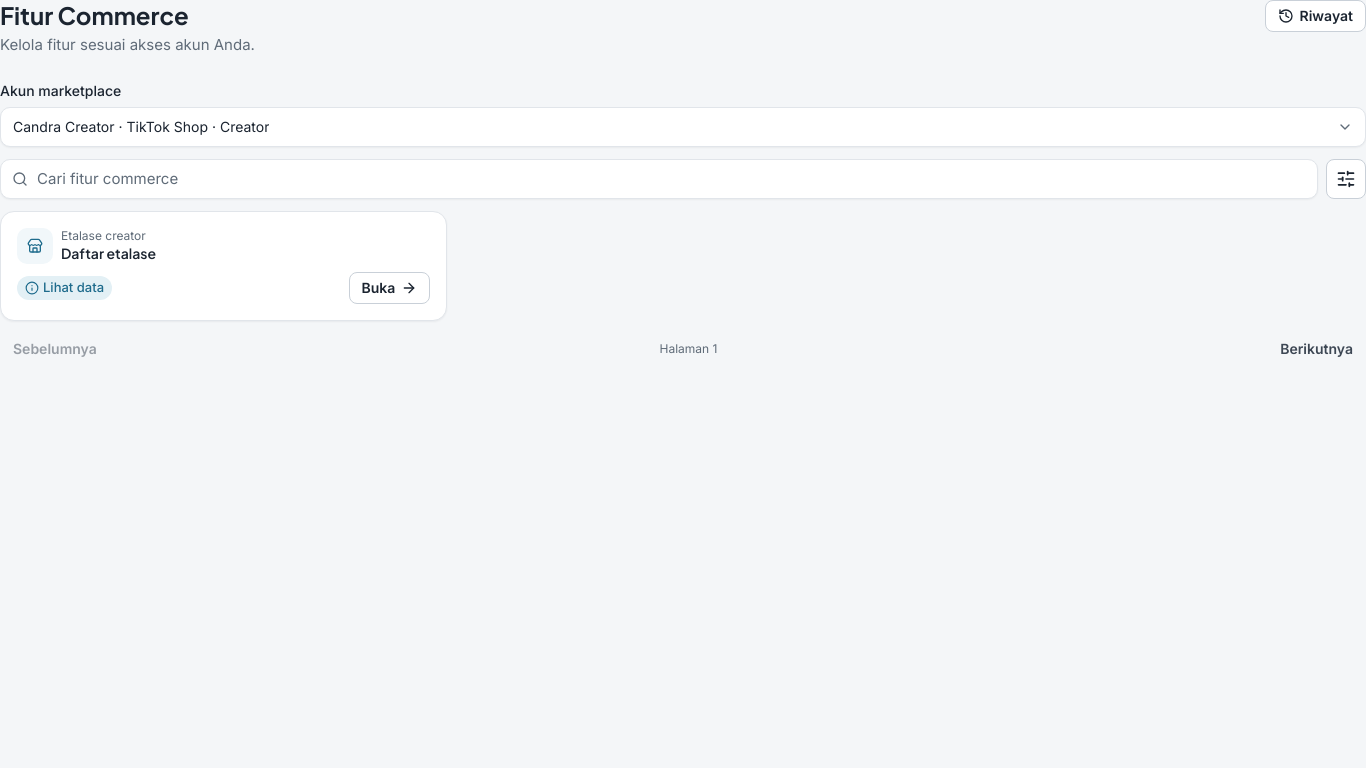
Test: commerce operations workspace › reads a verified operation with typed official fields and persists one idempotency key
Click the button with aria-label "Buka: Daftar etalase" at (389,288), box 348,272 -> 430,304
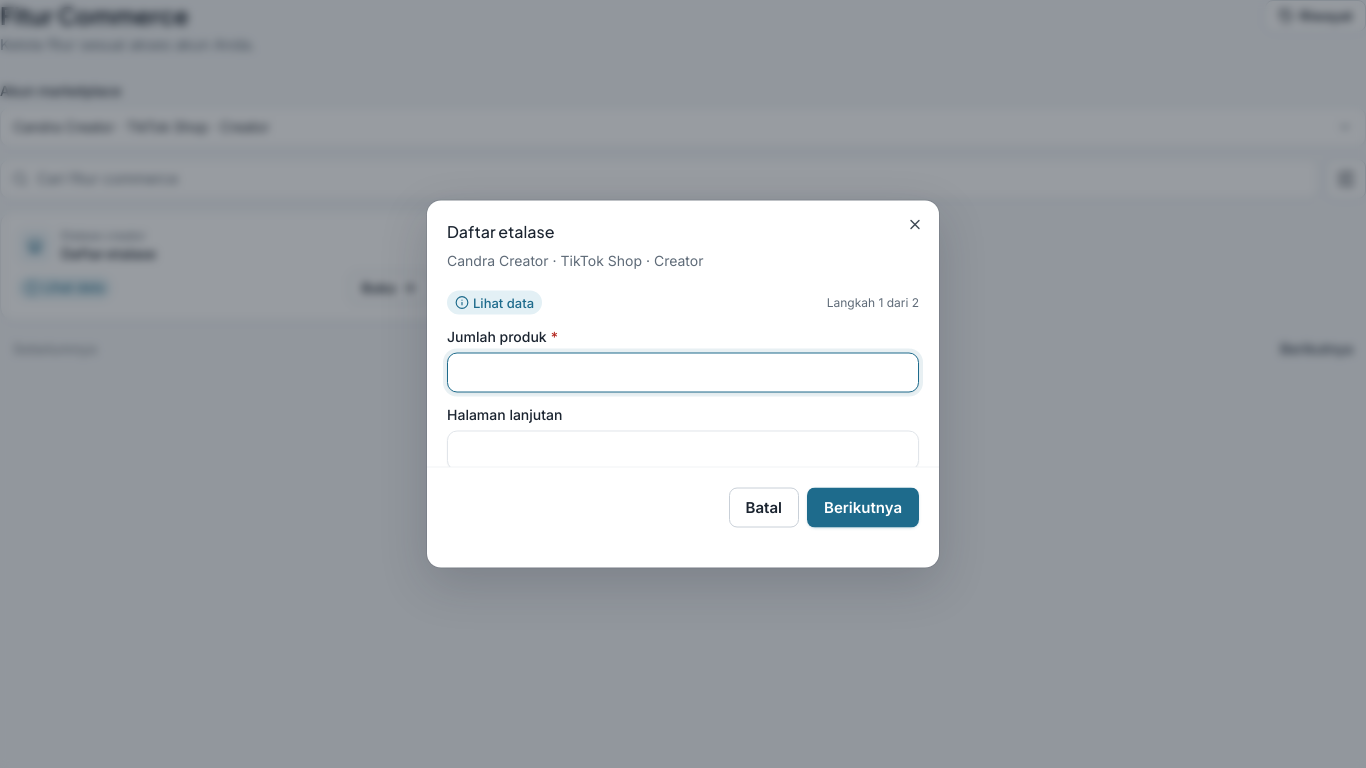
Type "20" into the field labelled "Jumlah produk*" at (683,372), box 447,352 -> 919,392
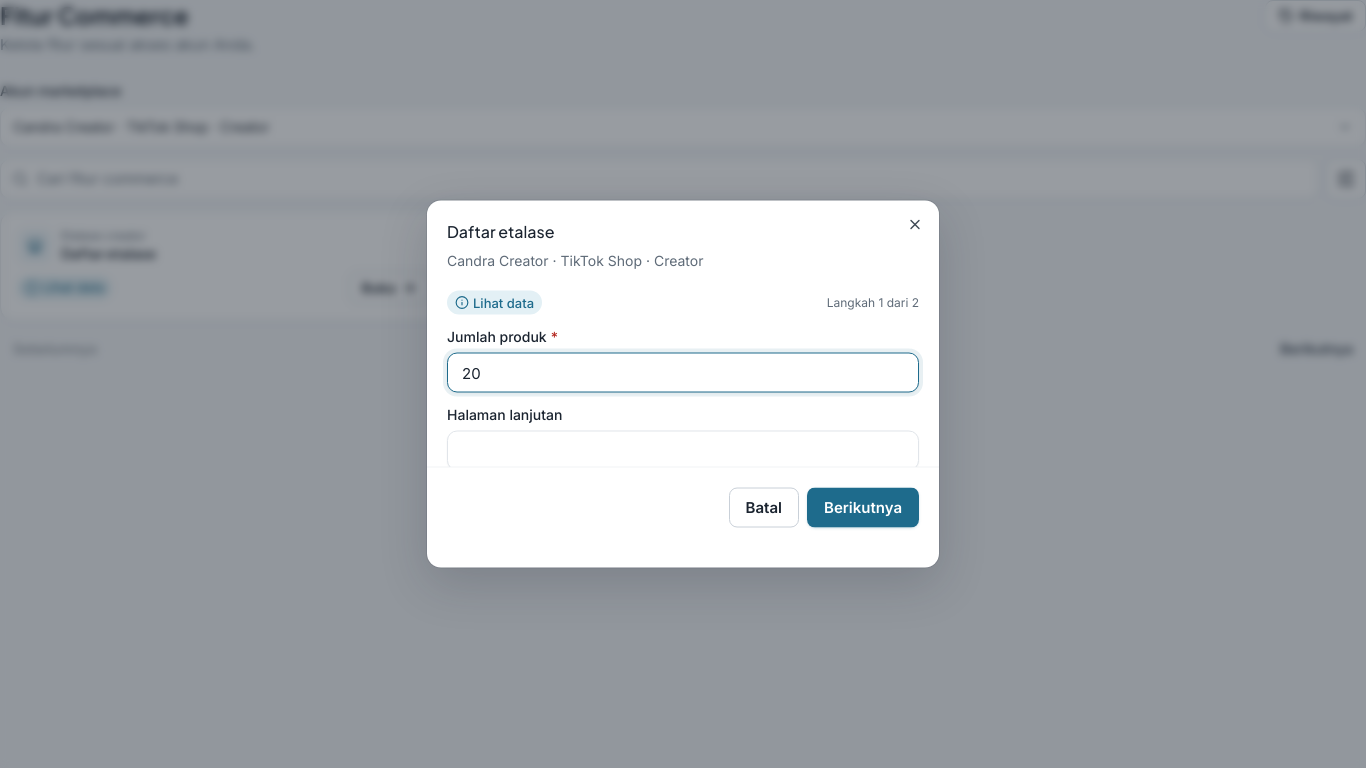
Click the button "Berikutnya" at (863,508), box 807,488 -> 919,528
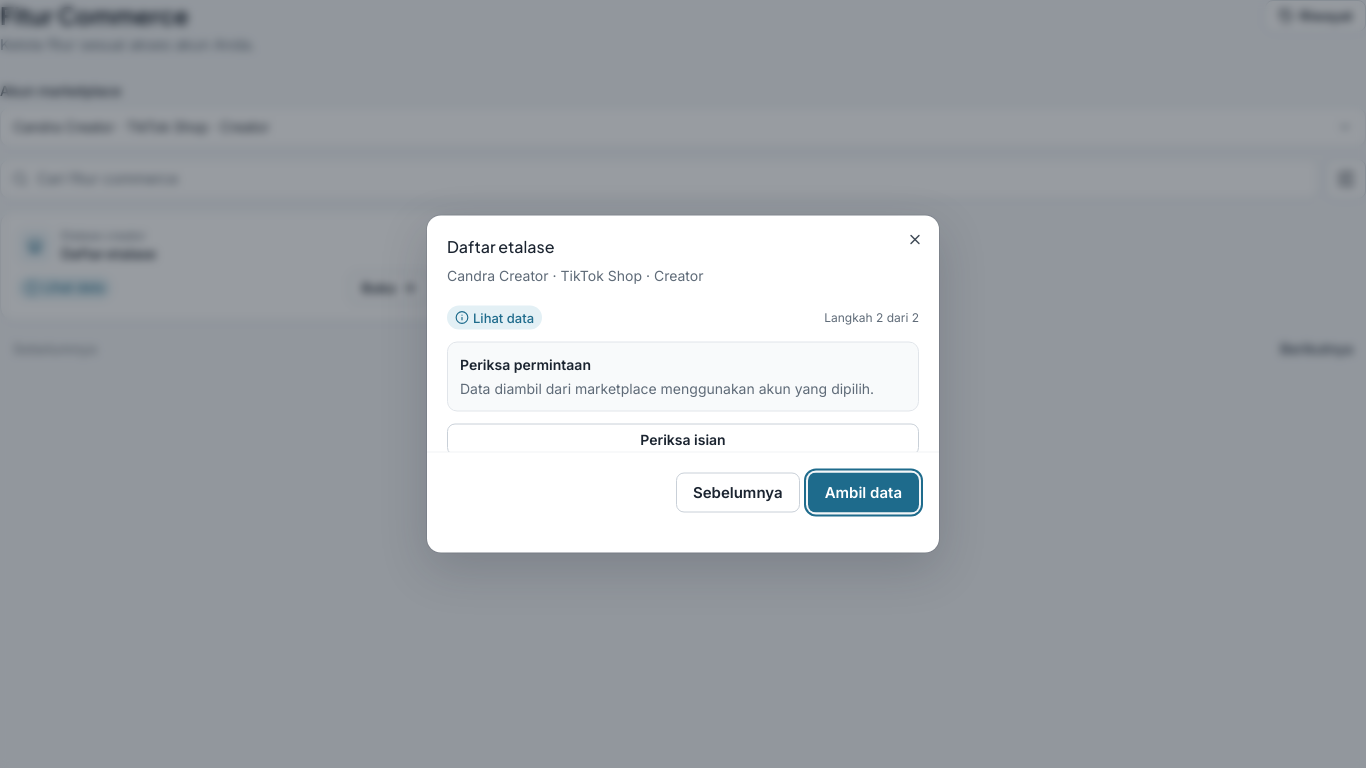
Click the button "Ambil data" at (863,492), box 808,472 -> 919,512
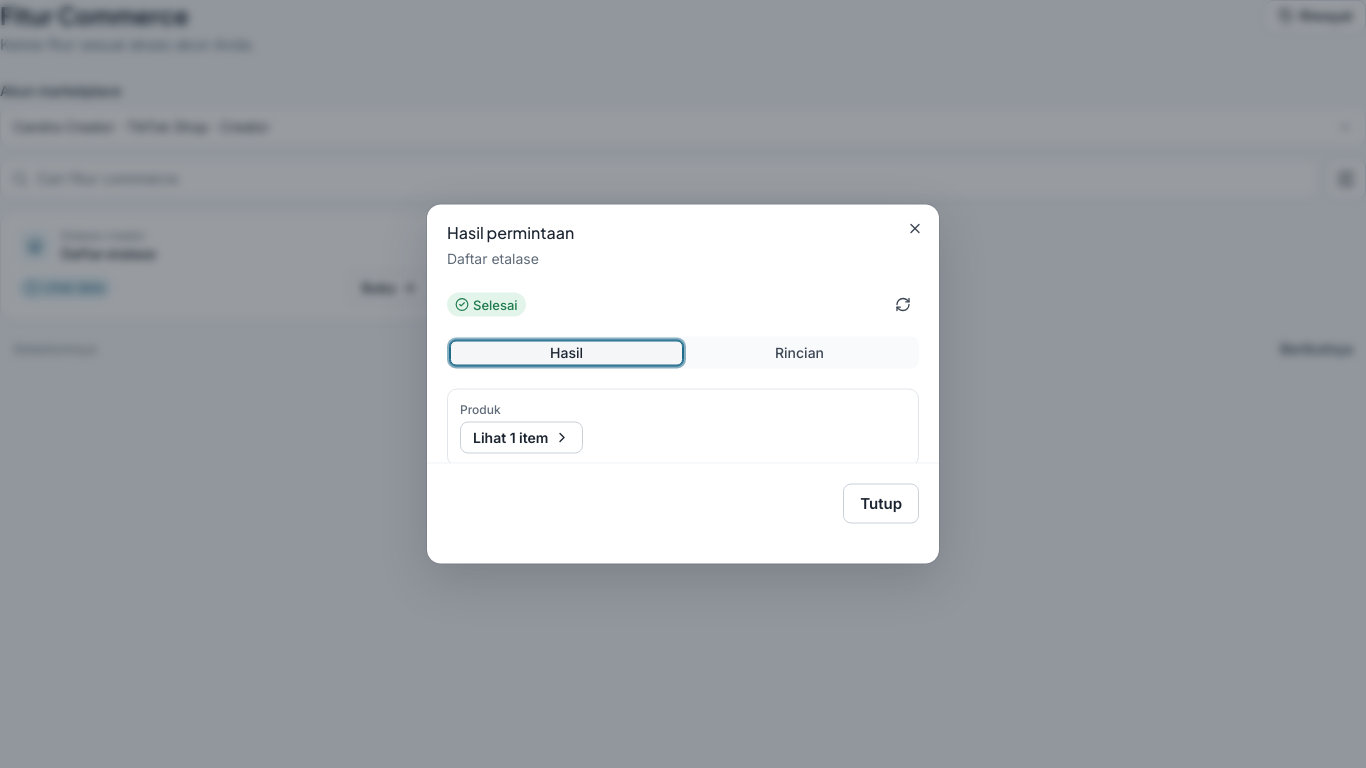
Check: the dialog "Hasil permintaan" is shown, box 427,204 -> 939,564
Click the button "Lihat 1 item" at (522,438), box 460,422 -> 584,454
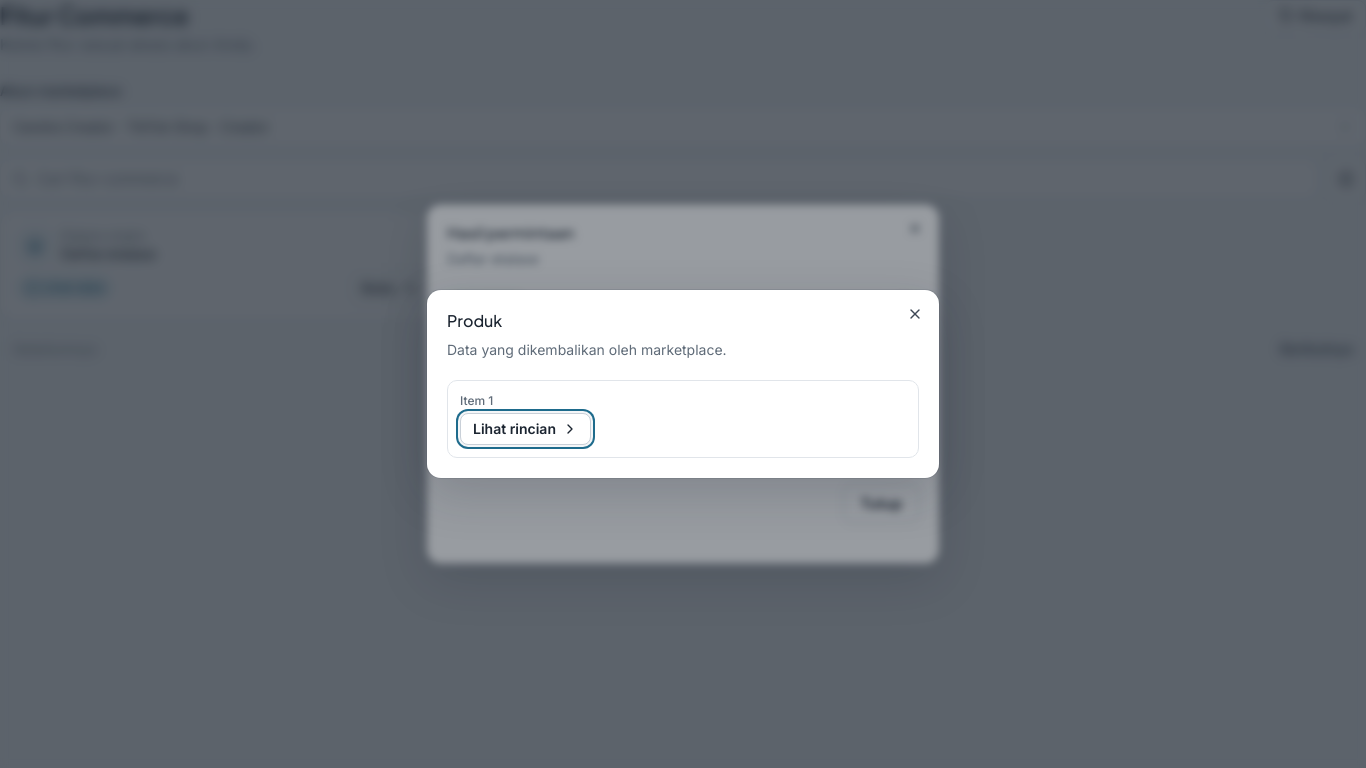
Click the button "Lihat rincian" at (526,429), box 460,413 -> 591,445
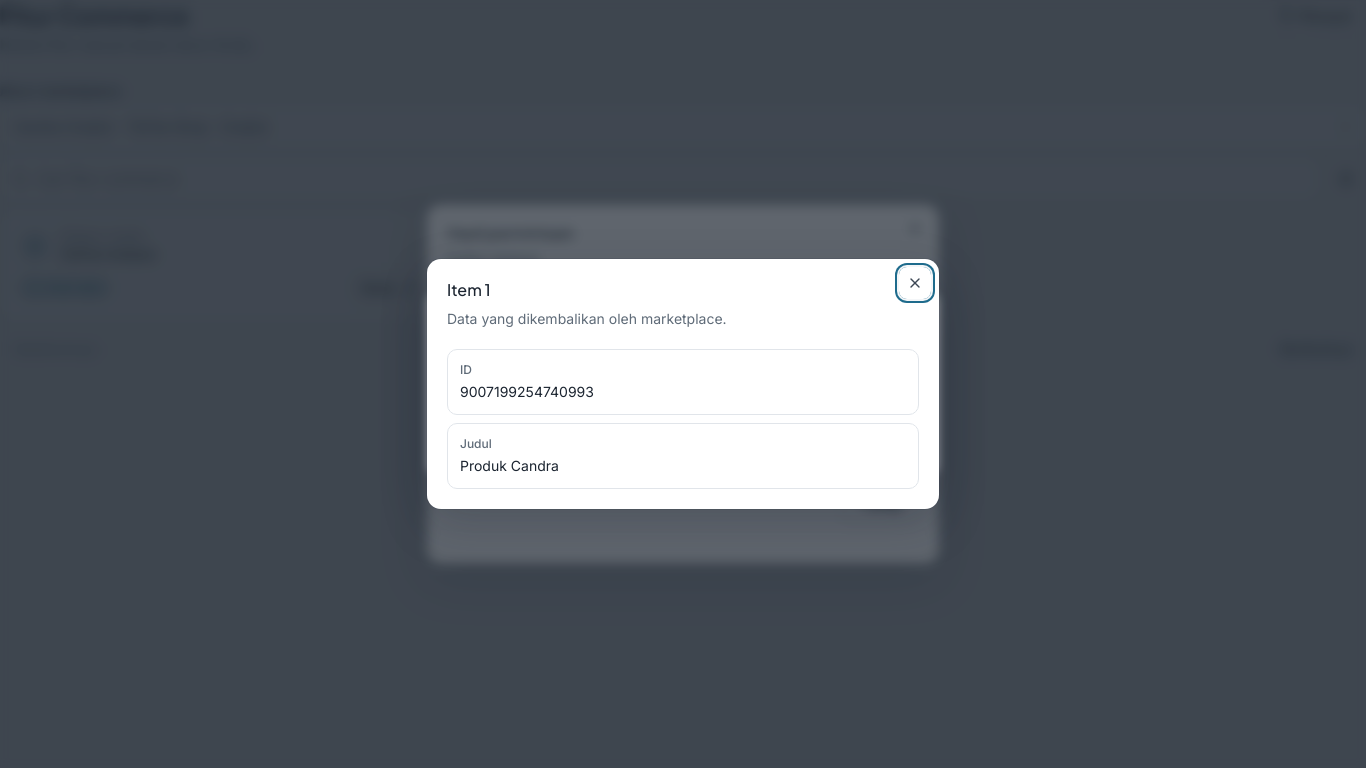
Check: the text "Produk Candra" is shown, box 460,457 -> 559,474
Check: the text "9007199254740993" is shown, box 460,383 -> 594,400
